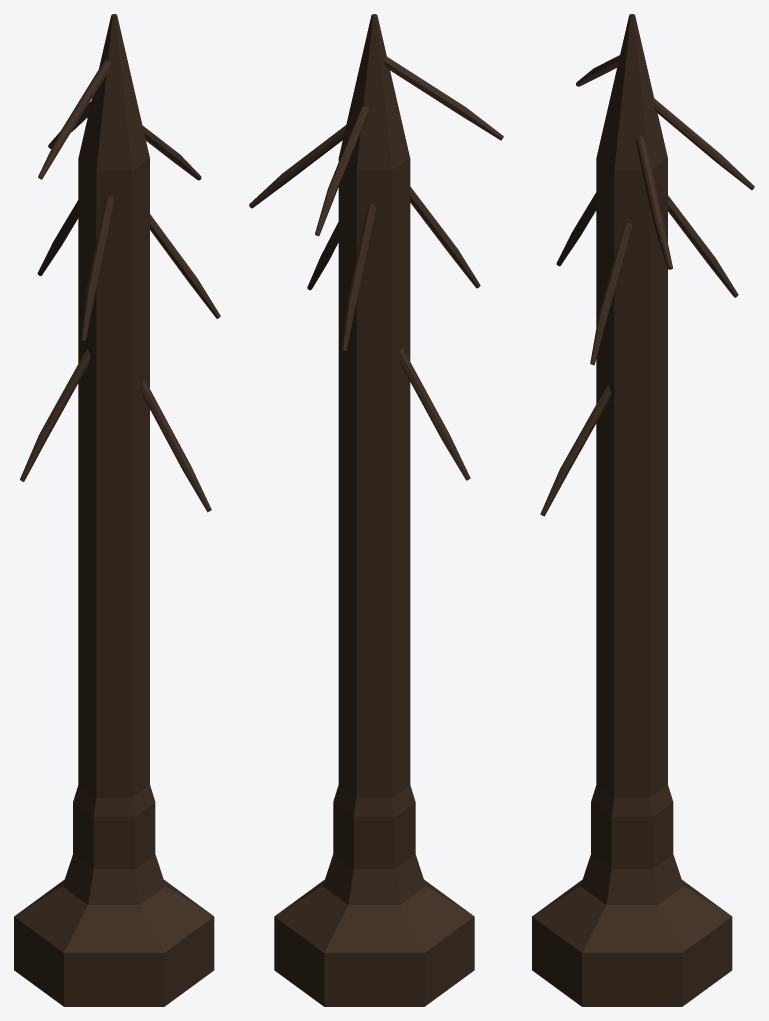
The model's file is Tree_Pine_1C.fbx.
3 renders of one model, left to right at view 1: azimuth 30°, elevation 25°; view 2: azimuth 150°, elevation 25°; view 3: azimuth 270°, elevation 25°, orthographic.
Parts seen in each view (by area): view 1: Tree_Pine_1C; view 2: Tree_Pine_1C; view 3: Tree_Pine_1C.
Boxes of the visible parts, left/top/right/bottom form: Tree_Pine_1C: left=14, top=14, right=220, bottom=1006; Tree_Pine_1C: left=249, top=14, right=503, bottom=1006; Tree_Pine_1C: left=532, top=14, right=754, bottom=1006.
Bounding box in the file's own units: 0.3105 × 1.36 × 0.2877.
